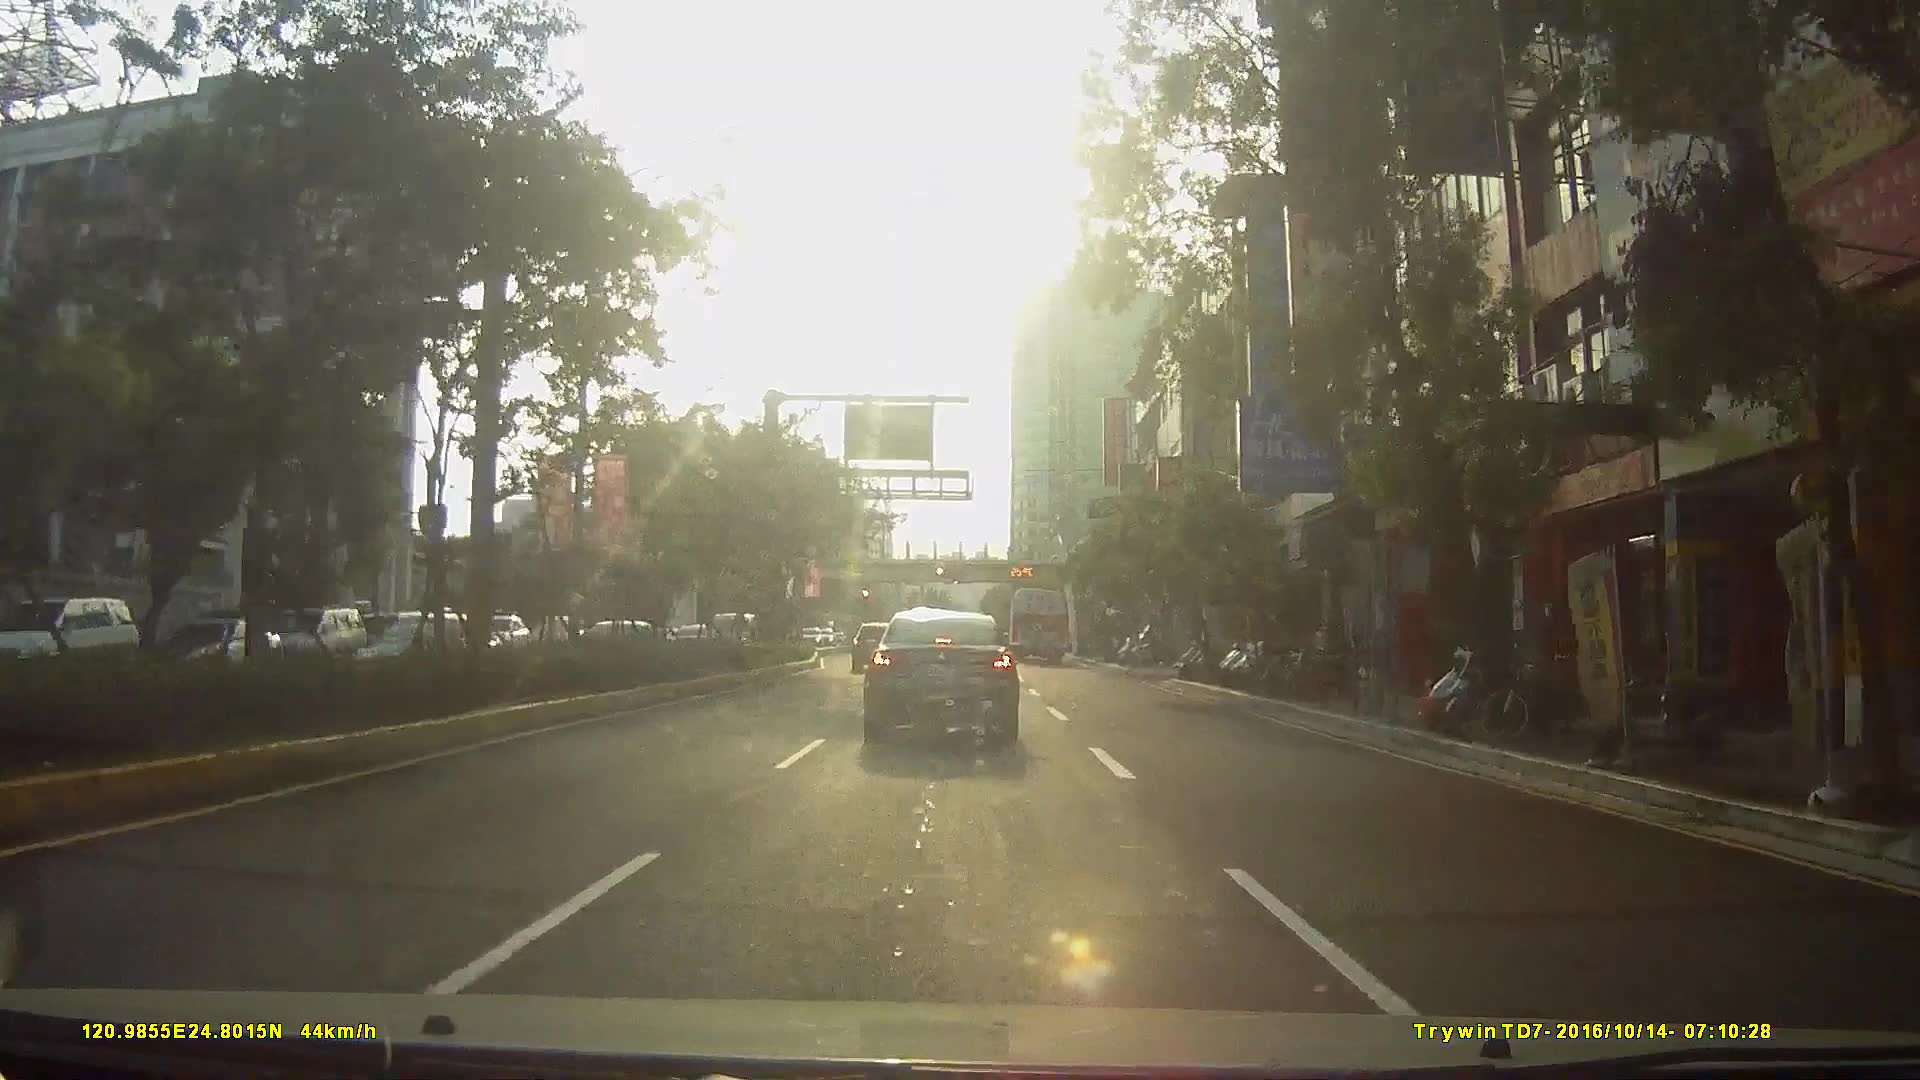vehicle: (860, 608, 1019, 744), (149, 617, 305, 691), (3, 595, 131, 678), (265, 604, 361, 666), (1006, 582, 1071, 659), (349, 607, 429, 665), (464, 612, 527, 654), (849, 621, 897, 671)
